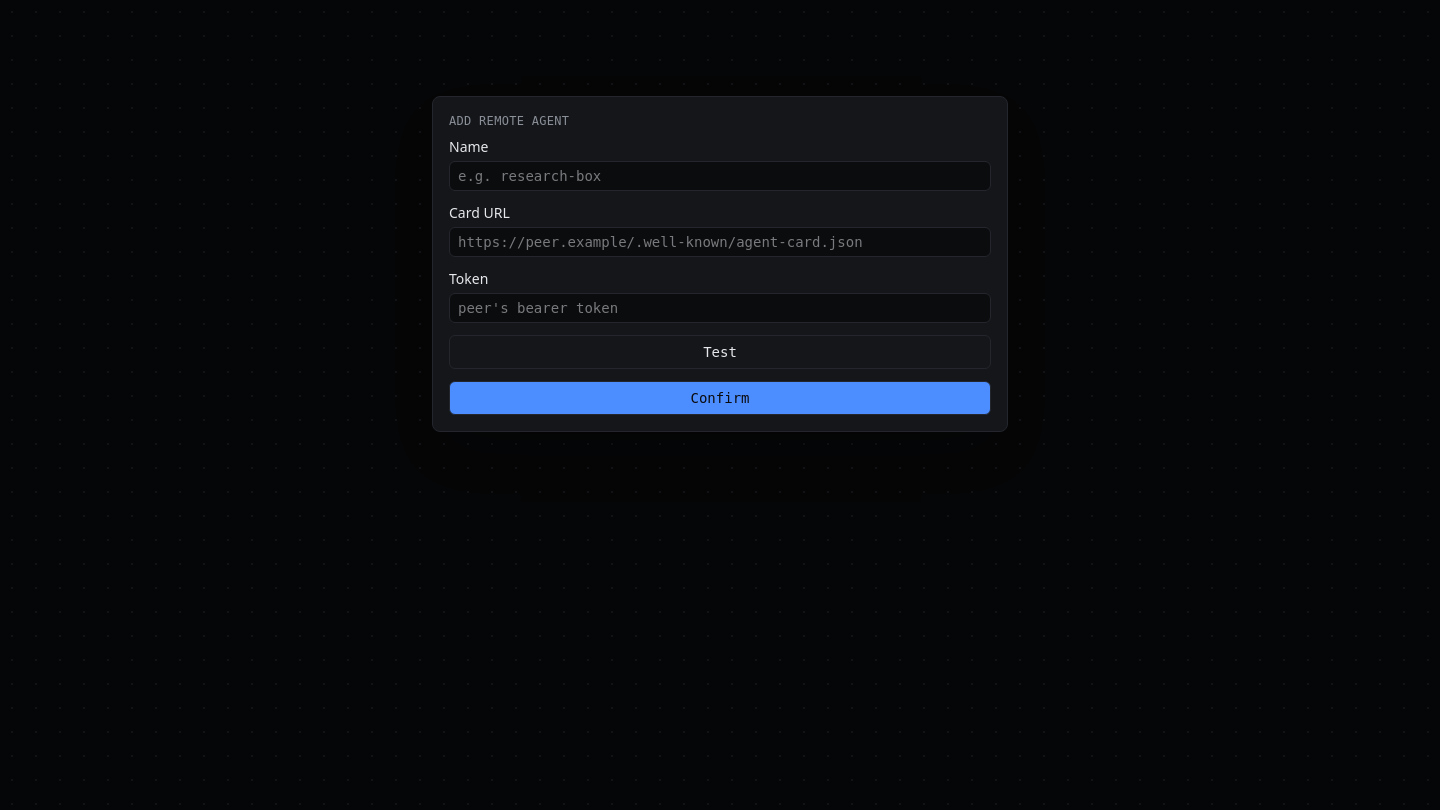
AddRemoteDialog › locks Confirm when the tested card advertises no skills (nothing to delegate to)
This screenshot has width=1440, height=810.
In the field with test id "add-remote-name": (720, 176) [449,161,991,191], type "peer-agent"
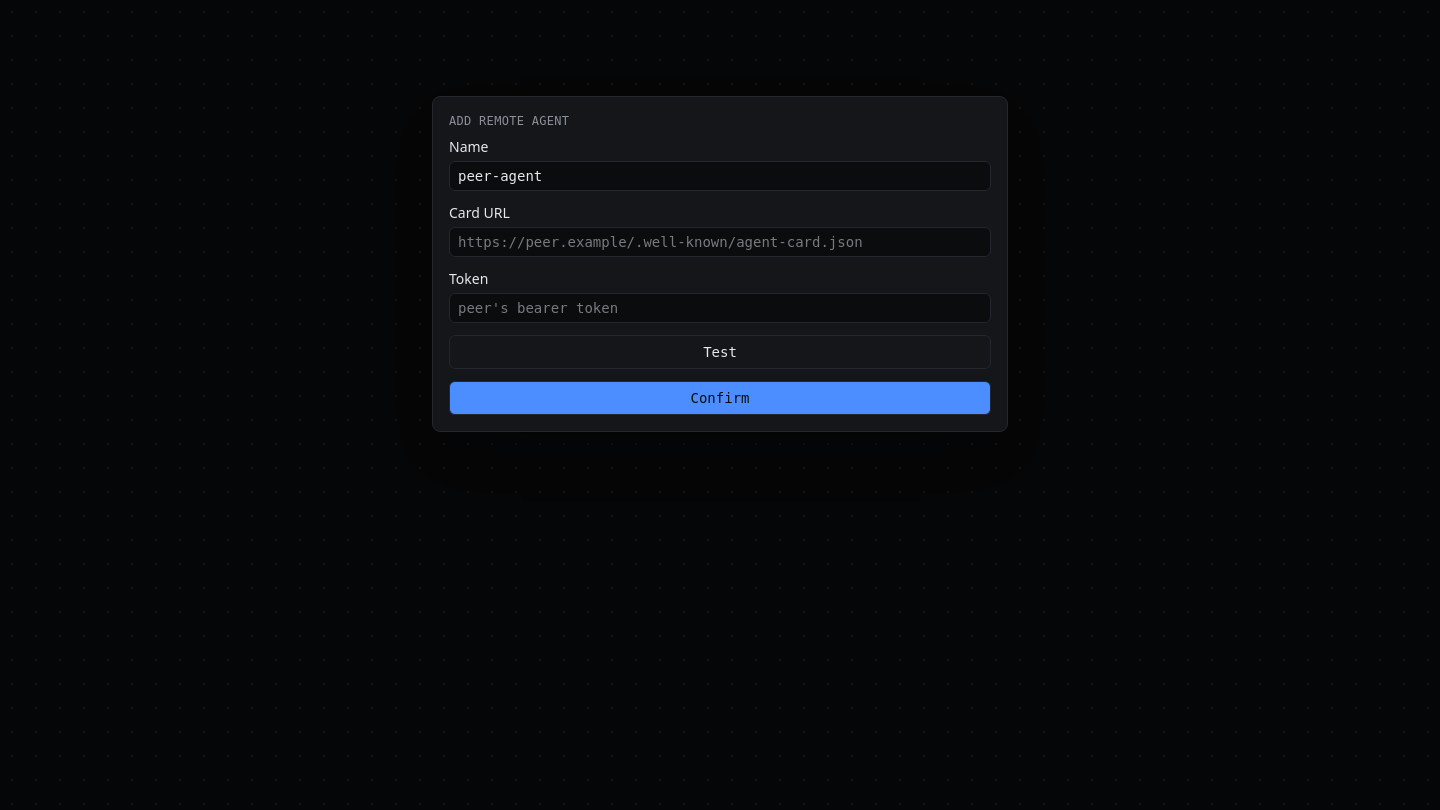
In the field with test id "add-remote-card-url": (720, 242) [449,227,991,257], type "http://peer.example/.well-known/agent-card.json"
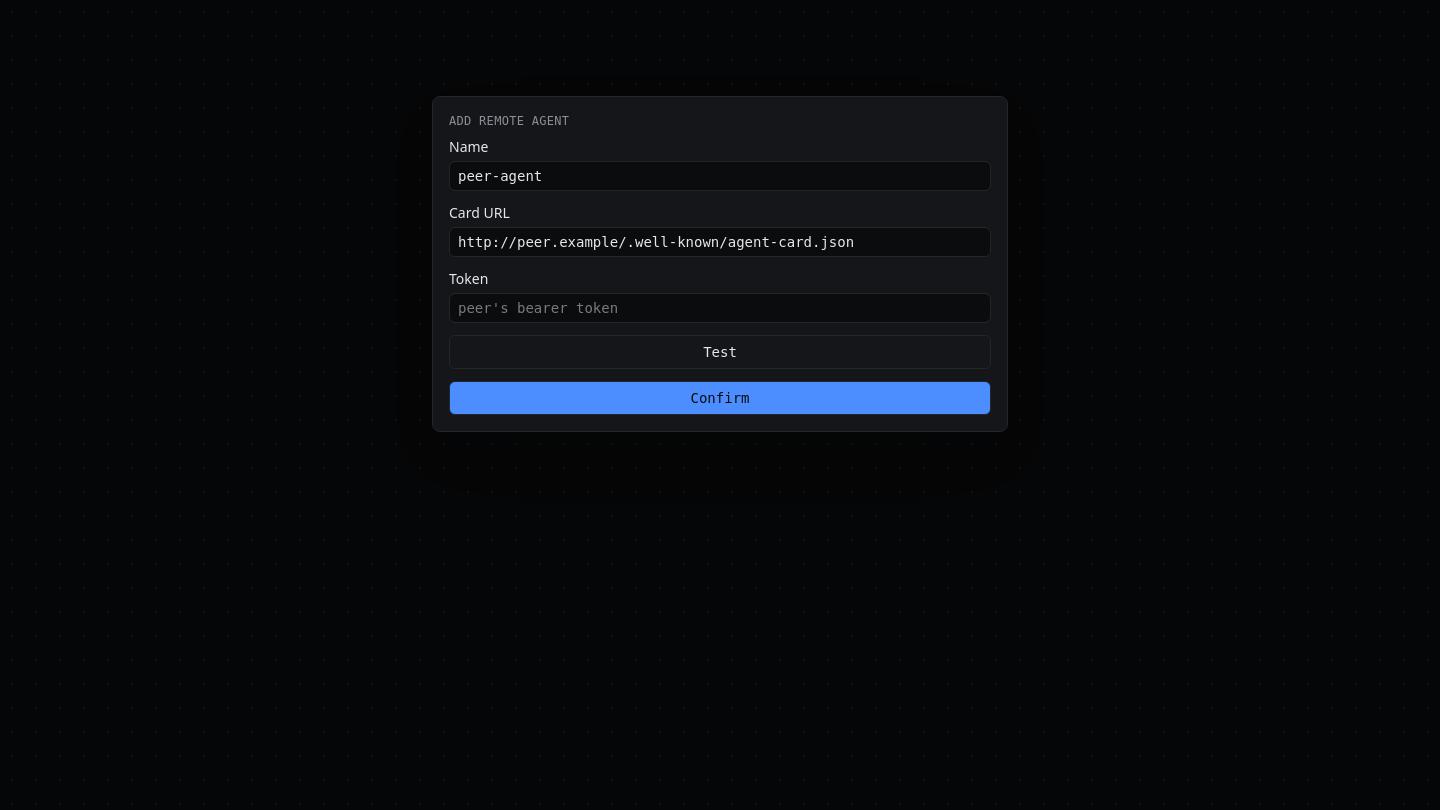
In the password field with test id "add-remote-token": (720, 308) [449,293,991,323], type "peer-bearer-token"
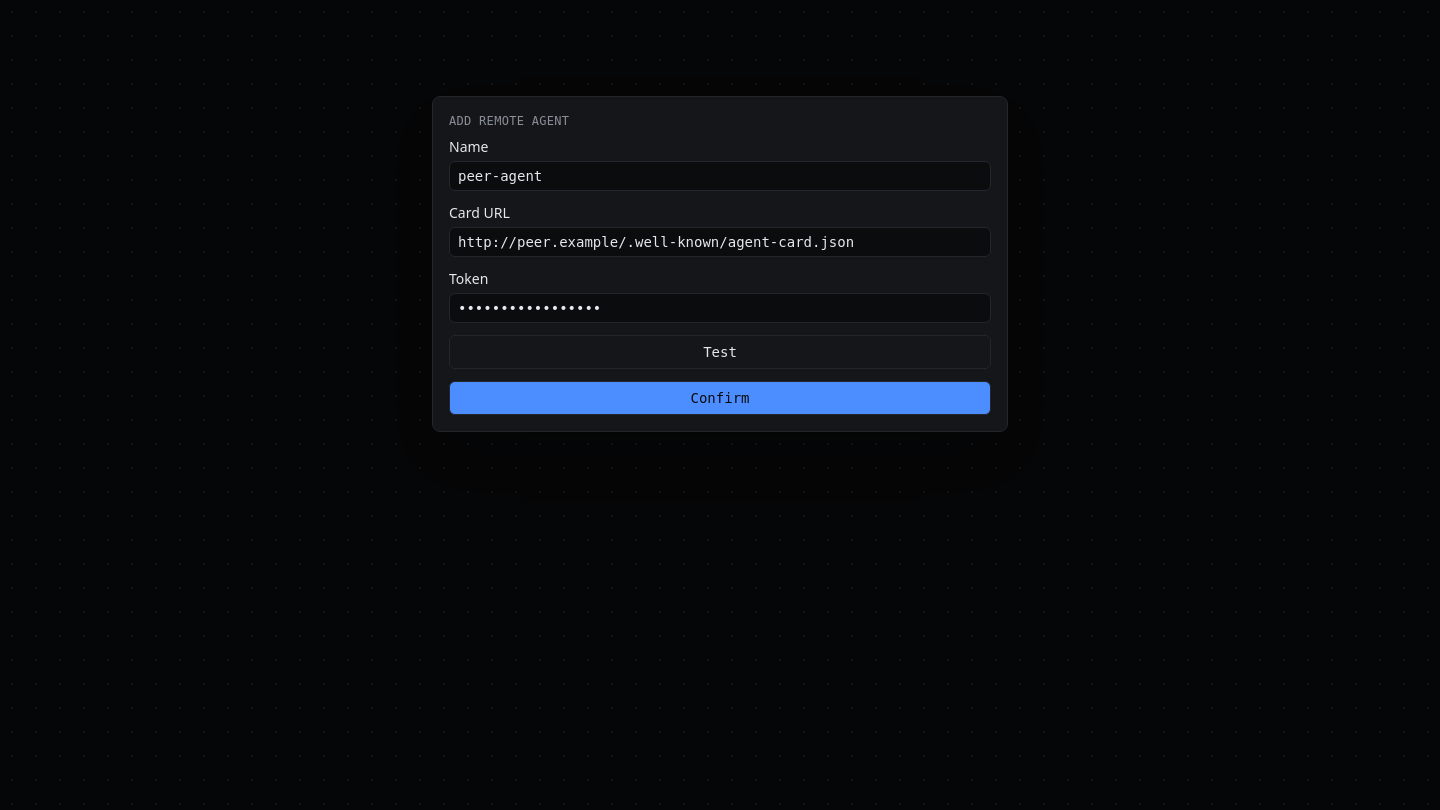
Click the button with test id "add-remote-test": (720, 352) [449,335,991,369]
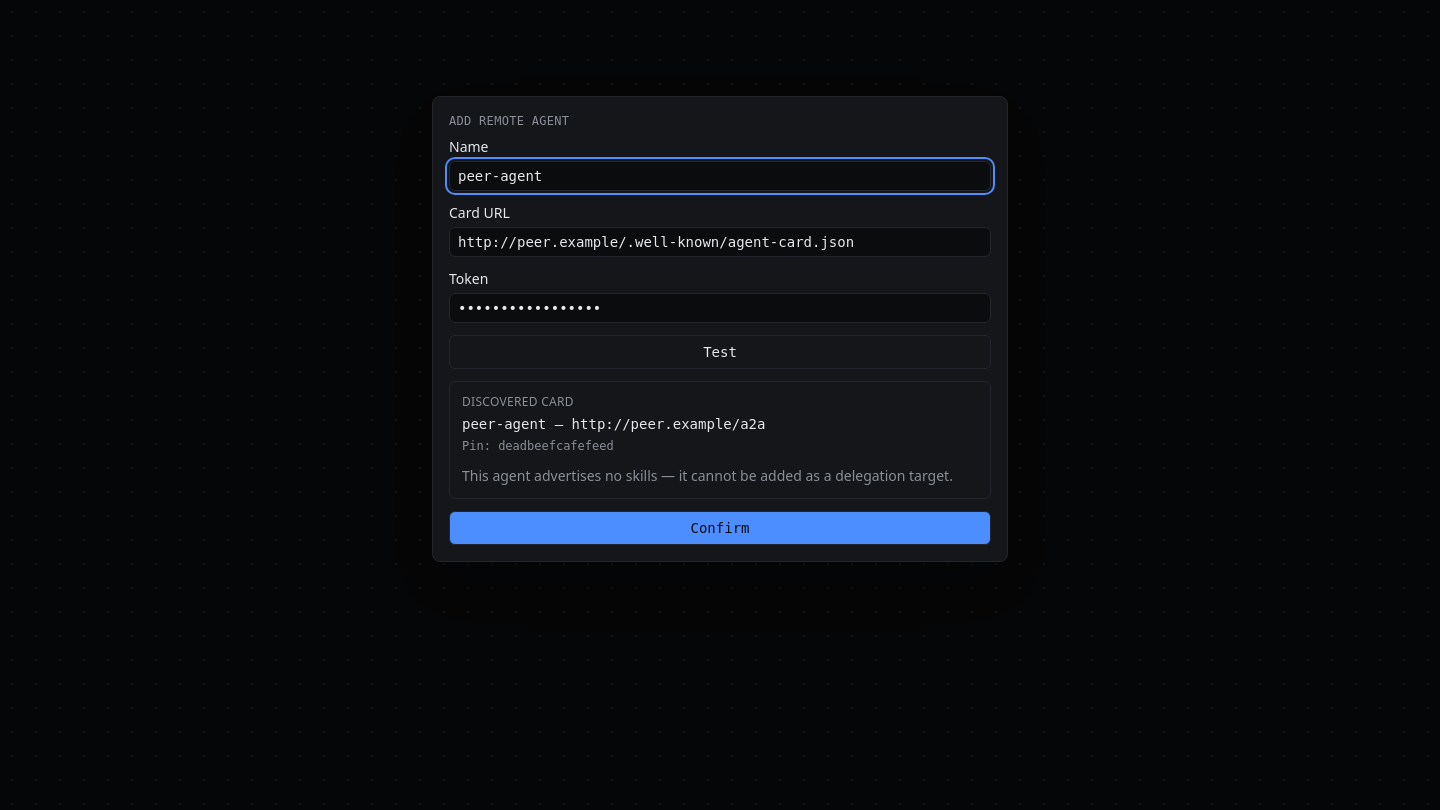
Expected: the button with test id "add-remote-confirm" is disabled, [449,511,991,545]
Expected: the element with test id "add-remote-preview" is shown, [449,381,991,499]
